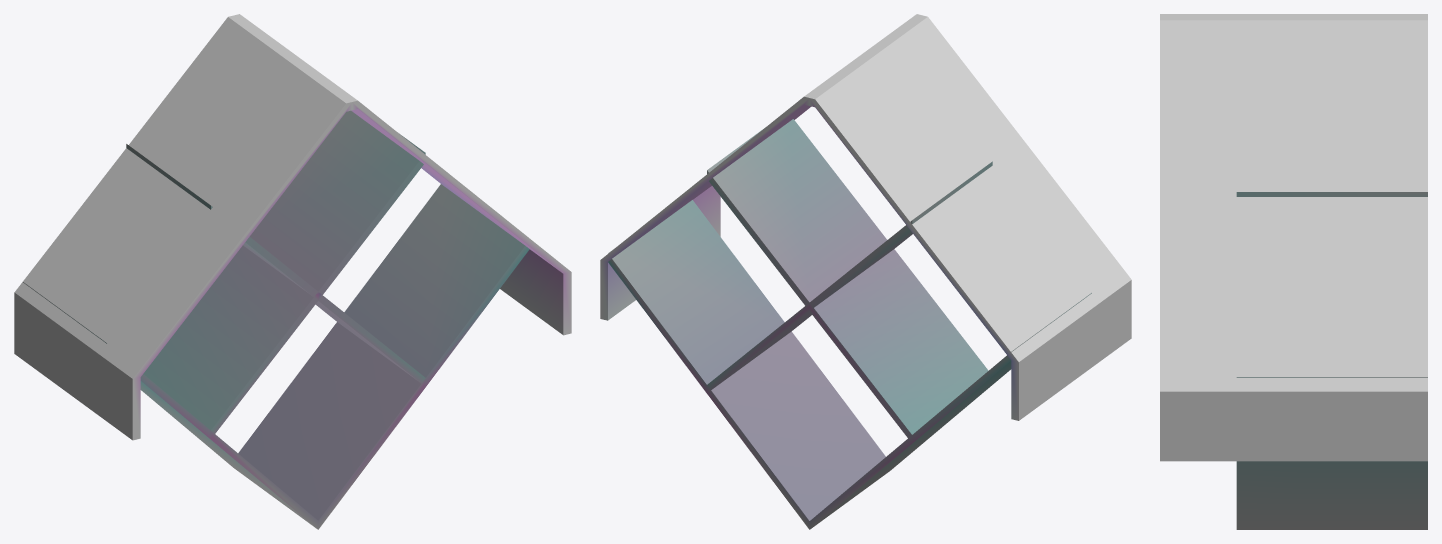
3 renders of one model, left to right at view 1: azimuth 30°, elevation 25°; view 2: azimuth 150°, elevation 25°; view 3: azimuth 270°, elevation 25°, orthographic. The views are drawn at different scales.
Parts seen in each view (by area): view 1: lower, roof; view 2: lower, roof; view 3: roof, lower.
Part boxes in pixels (x1=…): lower: x1=23, y1=110, x2=529, y2=529; roof: x1=14, y1=14, x2=571, y2=440; lower: x1=608, y1=119, x2=1091, y2=529; roof: x1=600, y1=14, x2=1131, y2=420; roof: x1=1160, y1=14, x2=1427, y2=461; lower: x1=1236, y1=192, x2=1427, y2=529.
Size of the model in its own units: 0.3 by 0.2958 by 0.1401.
